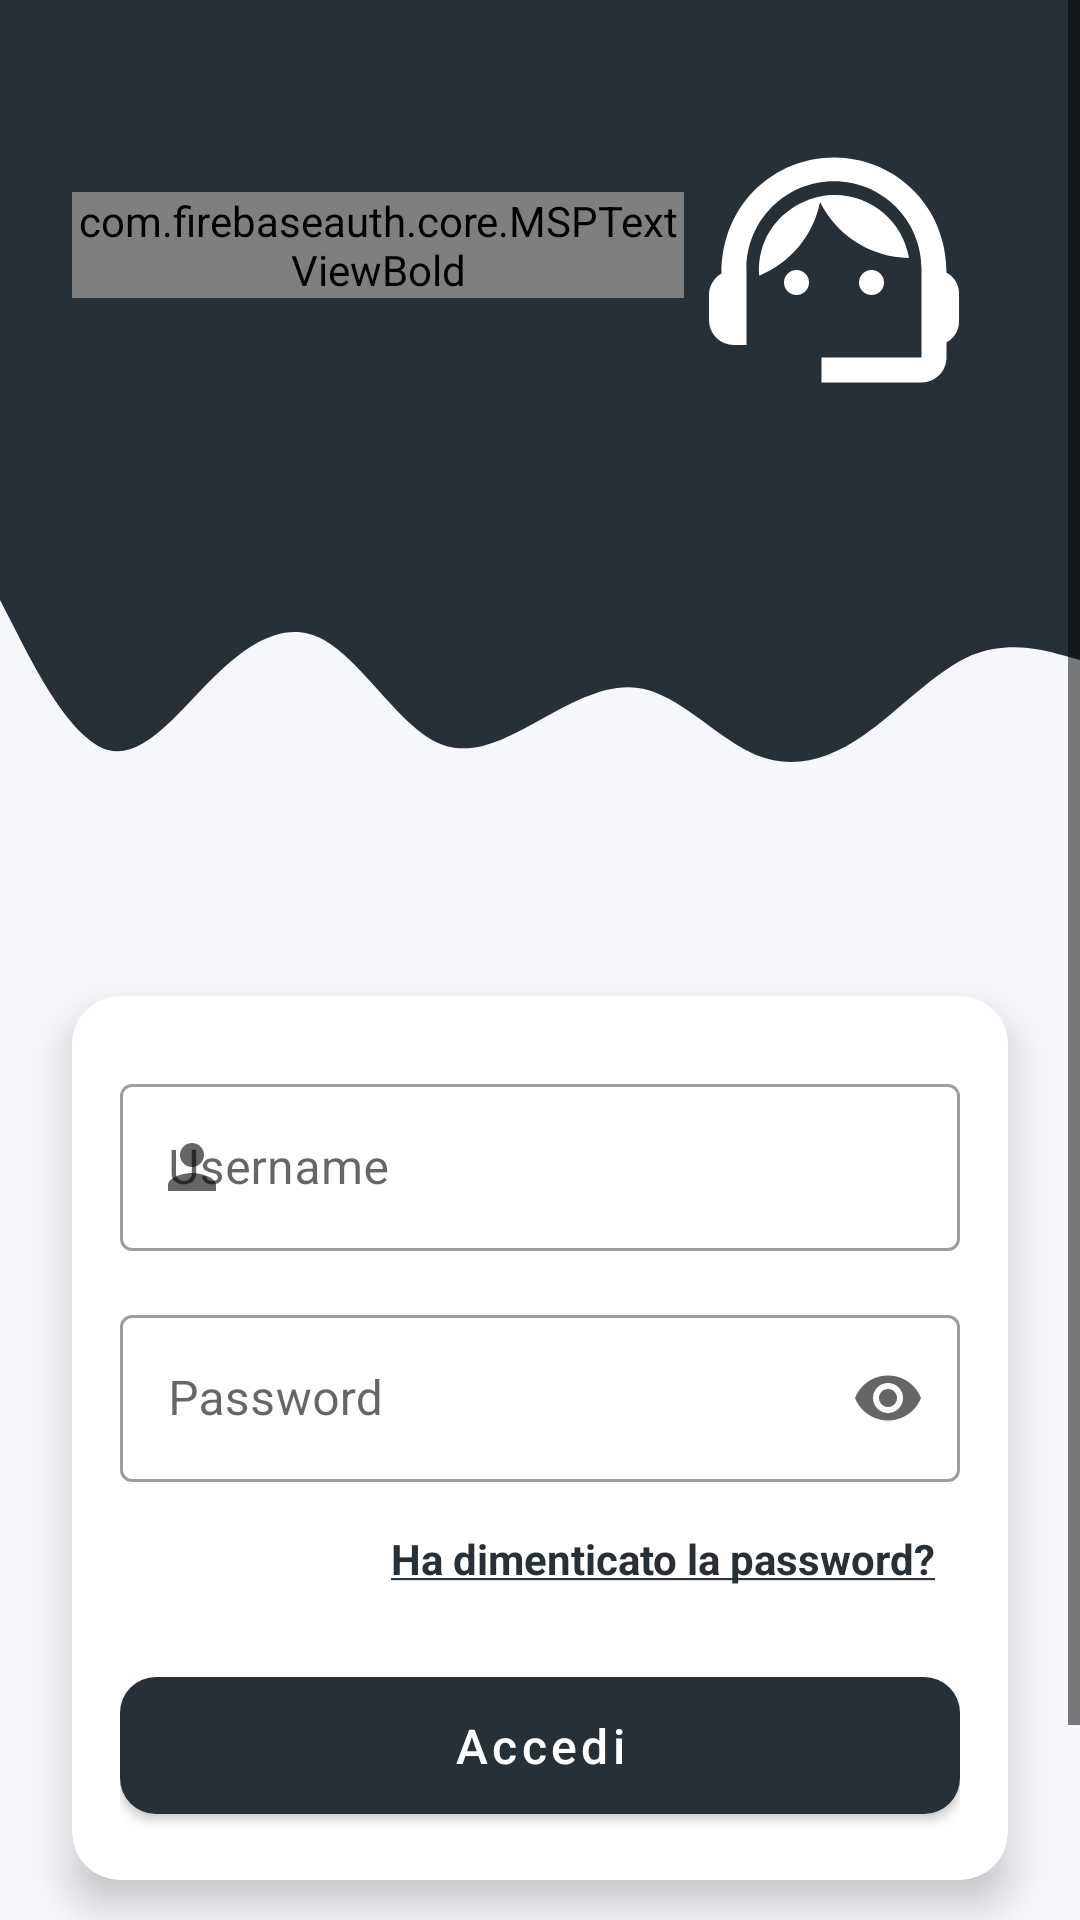

Icon bounding boxes for this 1080×1920 phone screenshot, format (x1, y1, x2, y2):
support: (709, 157, 959, 383)
